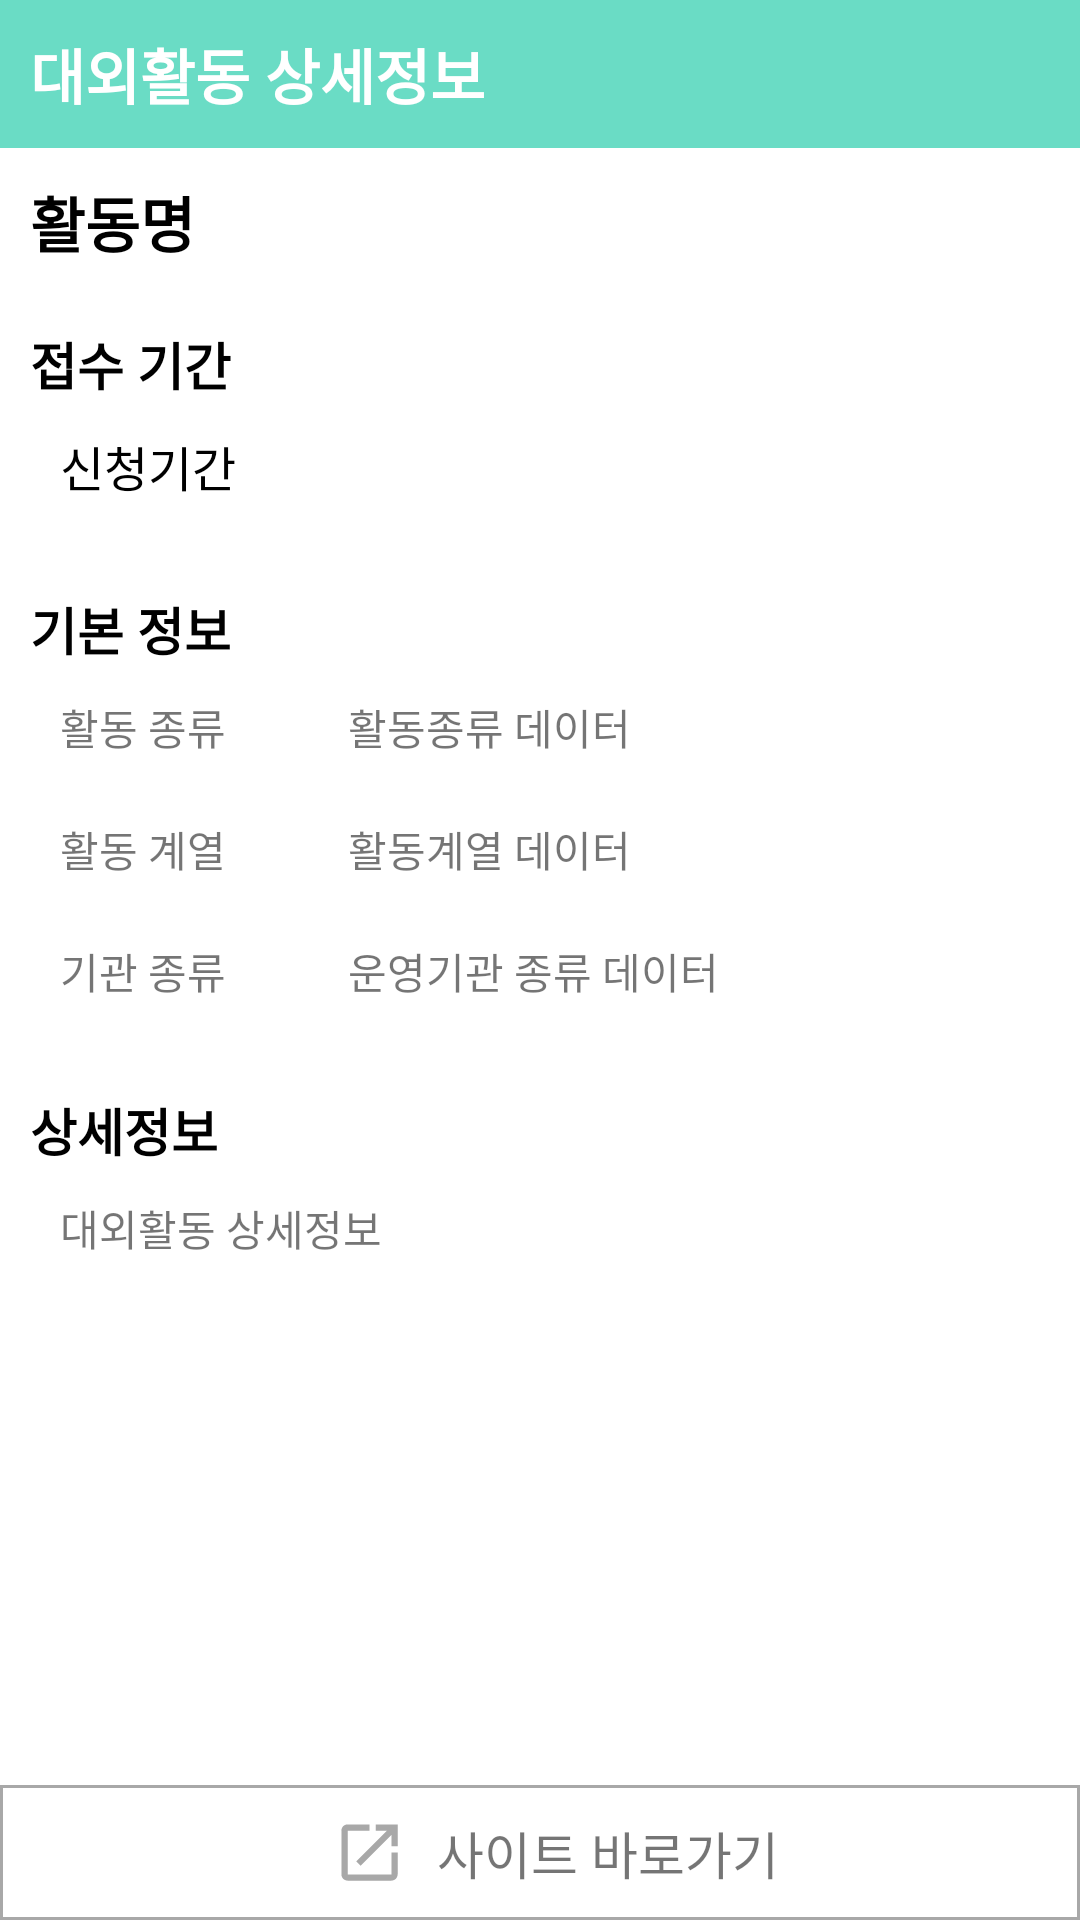

Locate icon controls on the screen. Image size 1080px×1920px, boxes as (x1, y1, x2, y2).
launch: (341, 1824, 398, 1881)
